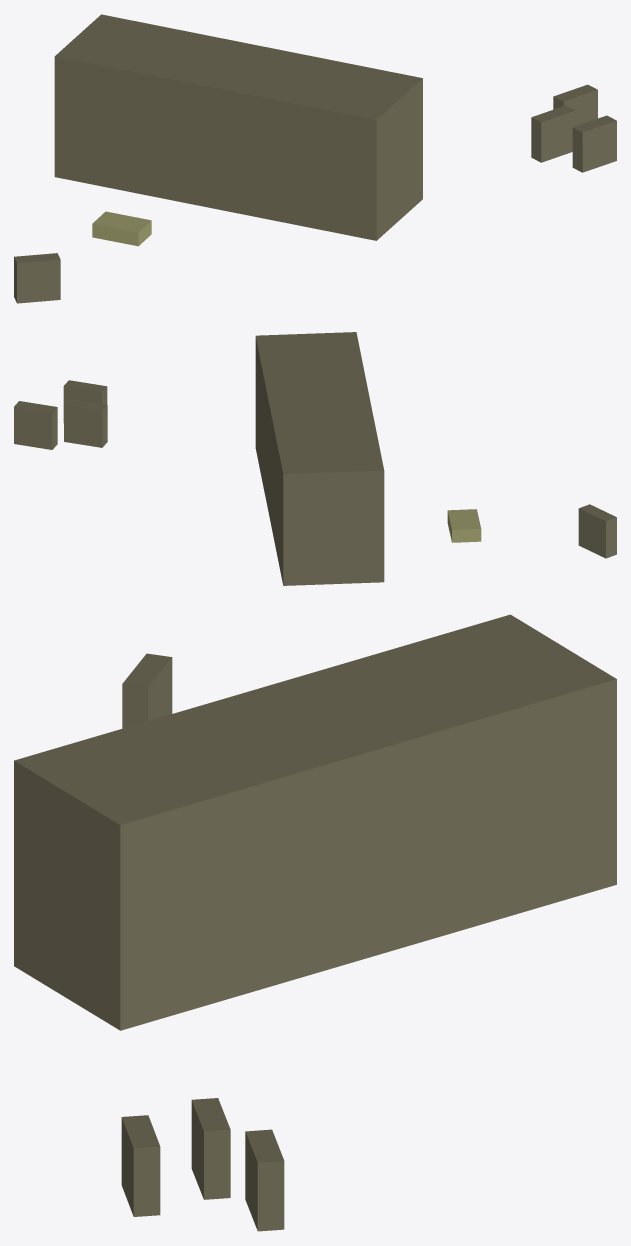
The model's file is SM_BarricadaCivil_v3_Furgoneta_e3_Brecha_LOD1.fbx.
3 views of the same model, one above another, from view 1: azimuth 30°, elevation 25°; view 2: azimuth 150°, elevation 25°; view 3: azimuth 270°, elevation 25° (orthographic). The views are drawn at different scales.
Parts seen in each view (by area): view 1: SM_barricada_civil_v15_LOD1; view 2: SM_barricada_civil_v15_LOD1; view 3: SM_barricada_civil_v15_LOD1.
Part boxes in pixels (box(x1,y1,x2,y2)): SM_barricada_civil_v15_LOD1: box(14, 14, 616, 303); SM_barricada_civil_v15_LOD1: box(14, 332, 616, 585); SM_barricada_civil_v15_LOD1: box(14, 614, 616, 1231).
Bounding box in the file's own units: 11.16 × 2.32 × 5.58.
